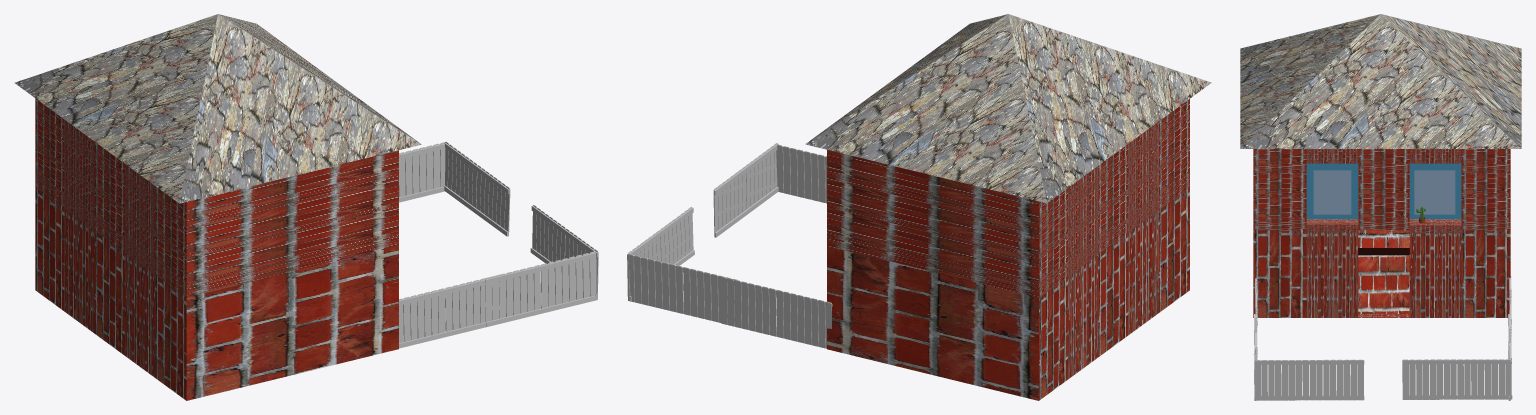
Rendered from haus1_mit_vorgarten.fbx.
3 renders of one model, left to right at view 1: azimuth 30°, elevation 25°; view 2: azimuth 150°, elevation 25°; view 3: azimuth 270°, elevation 25°, orthographic. The views are drawn at different scales.
Parts seen in each view (by area): view 1: haus, zaun; view 2: haus, zaun; view 3: haus, zaun.
Boxes of the visible parts, box(x1,y1,x2,y2) form: haus: box(14, 14, 421, 400); zaun: box(399, 141, 598, 348); haus: box(805, 14, 1211, 400); zaun: box(627, 143, 832, 348); haus: box(1240, 14, 1521, 317); zaun: box(1253, 276, 1512, 400).
Bounding box in the file's own units: 1174 × 1754 × 1200.
